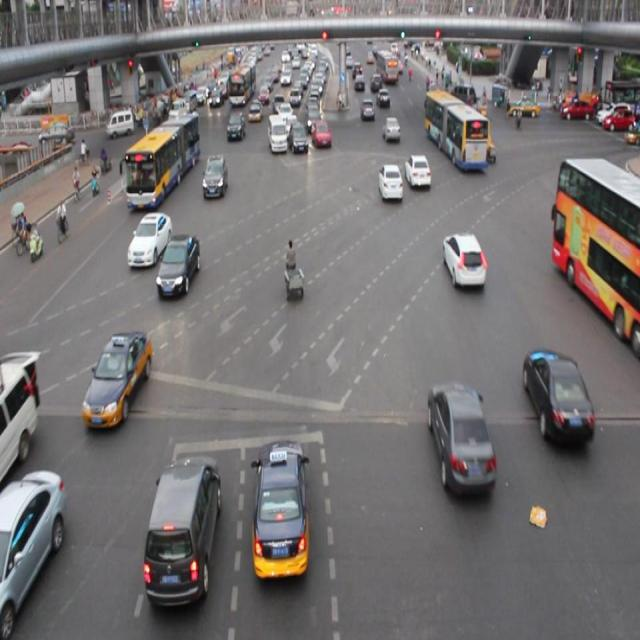car: (0, 464, 54, 640), (250, 438, 310, 582), (429, 383, 494, 498), (522, 348, 593, 446), (83, 330, 152, 426), (157, 235, 200, 298), (127, 212, 172, 270), (442, 232, 486, 288), (202, 153, 227, 201), (377, 162, 404, 204), (404, 154, 429, 190), (288, 120, 308, 156), (311, 117, 332, 151), (226, 112, 246, 144), (381, 116, 400, 142)
truck: (145, 453, 218, 598), (1, 352, 38, 474), (266, 115, 286, 153)
van: (556, 157, 640, 345), (125, 111, 197, 204), (424, 92, 486, 170)
